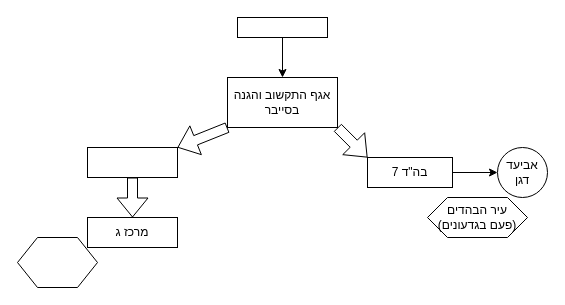
Some shapes in this 565 by 305 pixel diagram are drawn without their labels. The shapes that lost their labels are listed below. From the top down, each one's centre as x and y in pixels, then its label:
At (282,27): "רמטכל".
At (132,162): "חטיבת ההגנה בסייבר".
At (57,262): "בני ברק".
